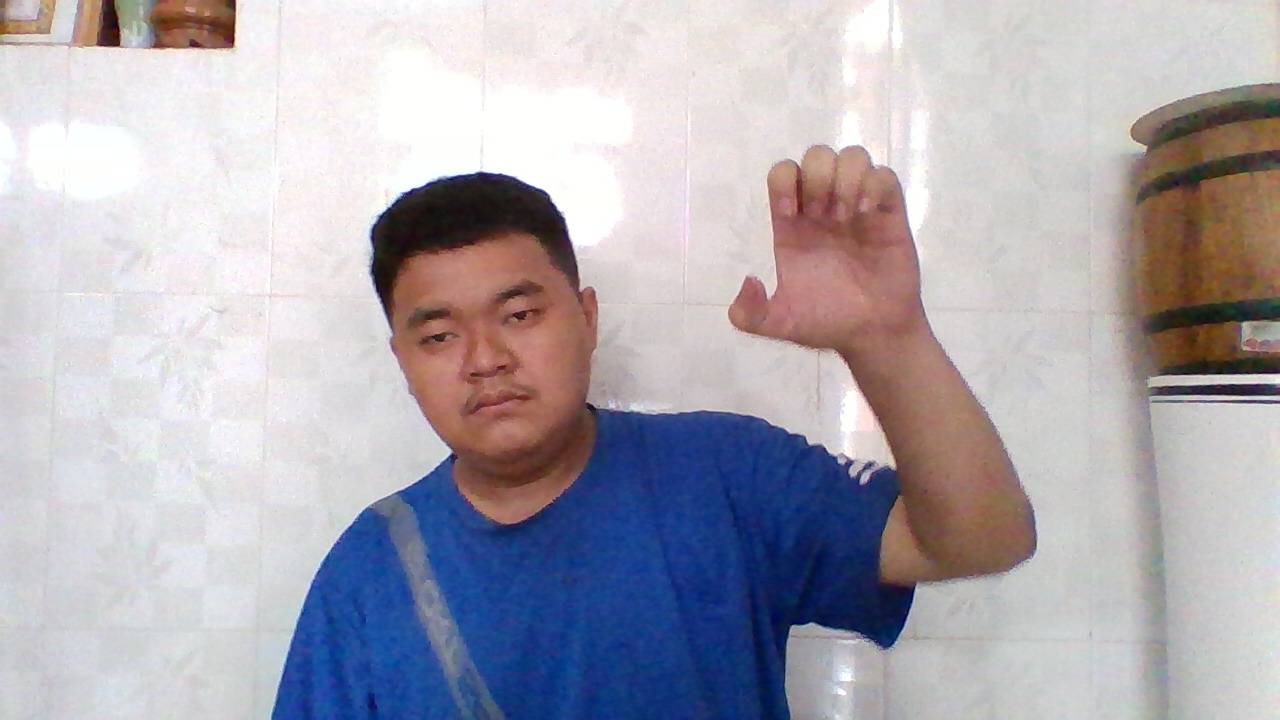E: (725, 132, 905, 350)
